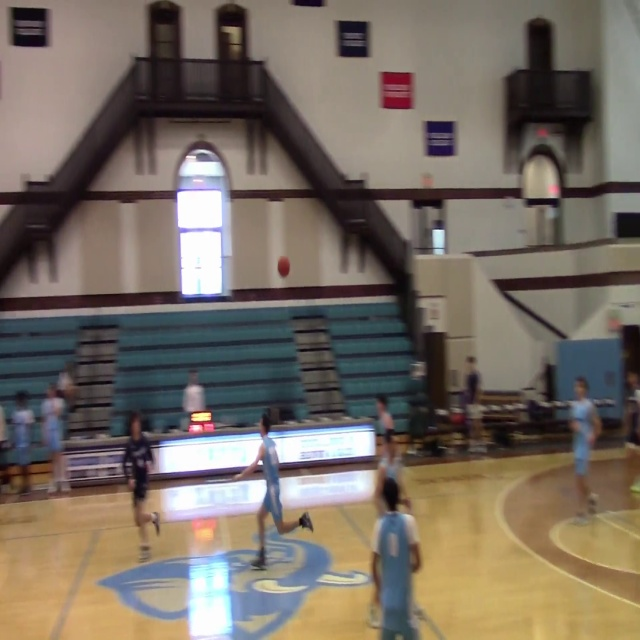Basketball: (277, 256, 290, 277)
